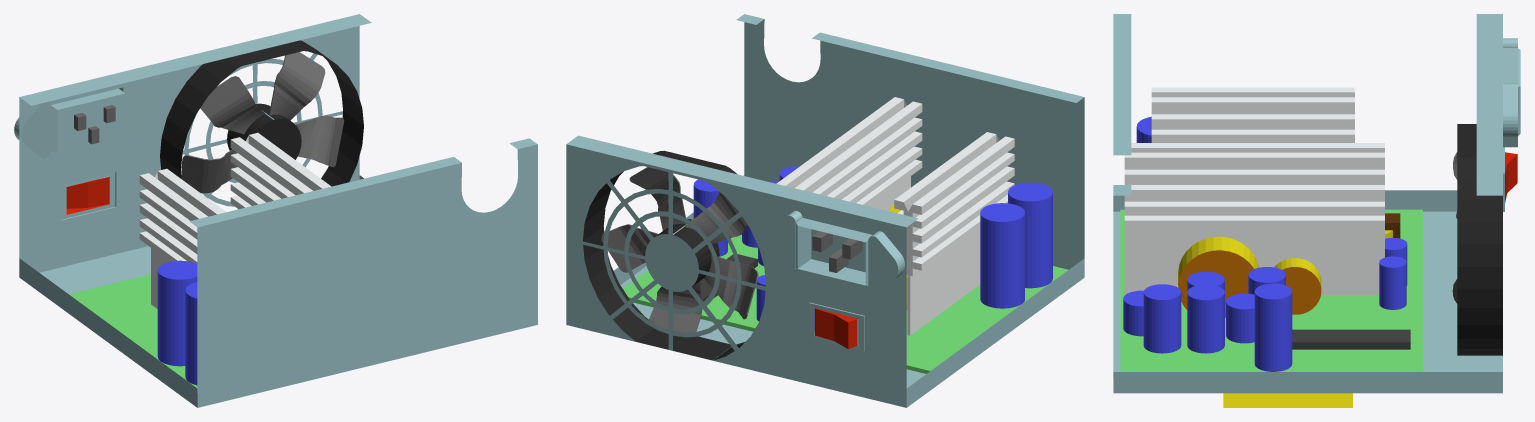
File: Modelo de Fuente de Poder 2.glb
3 views of the same model, side by side, from view 1: azimuth 30°, elevation 25°; view 2: azimuth 150°, elevation 25°; view 3: azimuth 270°, elevation 25° (orthographic). The views are drawn at different scales.
Visible parts, largest first — view 1: Caja Inferior.001, Condensador 1, Condensador 2, Placa, Filtro, Helice 2, Helice 1, Helice 3, Helice 5, Filtro 2, Boton; view 2: Caja Inferior.001, Condensador 1, Condensador 2, Placa, Filtro, Filtro 2, Helice 5, Helice 4, Helice 2, Helice 1, Boton, Helice 3 (+1 smaller); view 3: Caja Inferior.001, Condensador 2, Placa, Condensador 1, Filtro 2.005, Cobre 3, Filtro 2.001, Filtro 2.002, Chip, Plane.002, Cobre 1, Filtro 2.008 (+7 smaller).
Part boxes in pixels (left/top/right/bottom): Caja Inferior.001: left=14, top=14, right=537, bottom=407; Condensador 1: left=139, top=168, right=226, bottom=308; Condensador 2: left=230, top=132, right=331, bottom=209; Placa: left=69, top=274, right=197, bottom=387; Filtro: left=157, top=260, right=197, bottom=366; Helice 2: left=269, top=52, right=325, bottom=120; Helice 1: left=200, top=76, right=264, bottom=134; Helice 3: left=295, top=115, right=344, bottom=167; Helice 5: left=181, top=149, right=237, bottom=193; Filtro 2: left=185, top=282, right=197, bottom=385; Boton: left=66, top=176, right=109, bottom=214; Caja Inferior.001: left=566, top=14, right=1084, bottom=407; Condensador 1: left=894, top=132, right=1014, bottom=335; Condensador 2: left=776, top=97, right=922, bottom=211; Placa: left=623, top=234, right=1068, bottom=373; Filtro: left=980, top=203, right=1024, bottom=308; Filtro 2: left=1008, top=182, right=1052, bottom=288; Helice 5: left=704, top=255, right=758, bottom=319; Helice 4: left=649, top=281, right=702, bottom=332; Helice 2: left=629, top=167, right=686, bottom=230; Helice 1: left=684, top=192, right=747, bottom=243; Boton: left=815, top=308, right=857, bottom=348; Helice 3: left=601, top=224, right=658, bottom=272; Caja Inferior.001: left=1113, top=14, right=1520, bottom=393; Condensador 2: left=1124, top=143, right=1384, bottom=294; Placa: left=1120, top=209, right=1422, bottom=371; Condensador 1: left=1151, top=87, right=1354, bottom=142; Filtro 2.005: left=1254, top=283, right=1292, bottom=371; Cobre 3: left=1178, top=236, right=1258, bottom=317; Filtro 2.001: left=1143, top=284, right=1181, bottom=353; Filtro 2.002: left=1187, top=284, right=1224, bottom=353; Chip: left=1292, top=329, right=1410, bottom=349; Plane.002: left=1223, top=393, right=1352, bottom=407; Cobre 1: left=1274, top=258, right=1321, bottom=314; Filtro 2.008: left=1379, top=256, right=1406, bottom=309.
Bounding box in the file's own units: 4.01 × 2.19 × 3.8.
